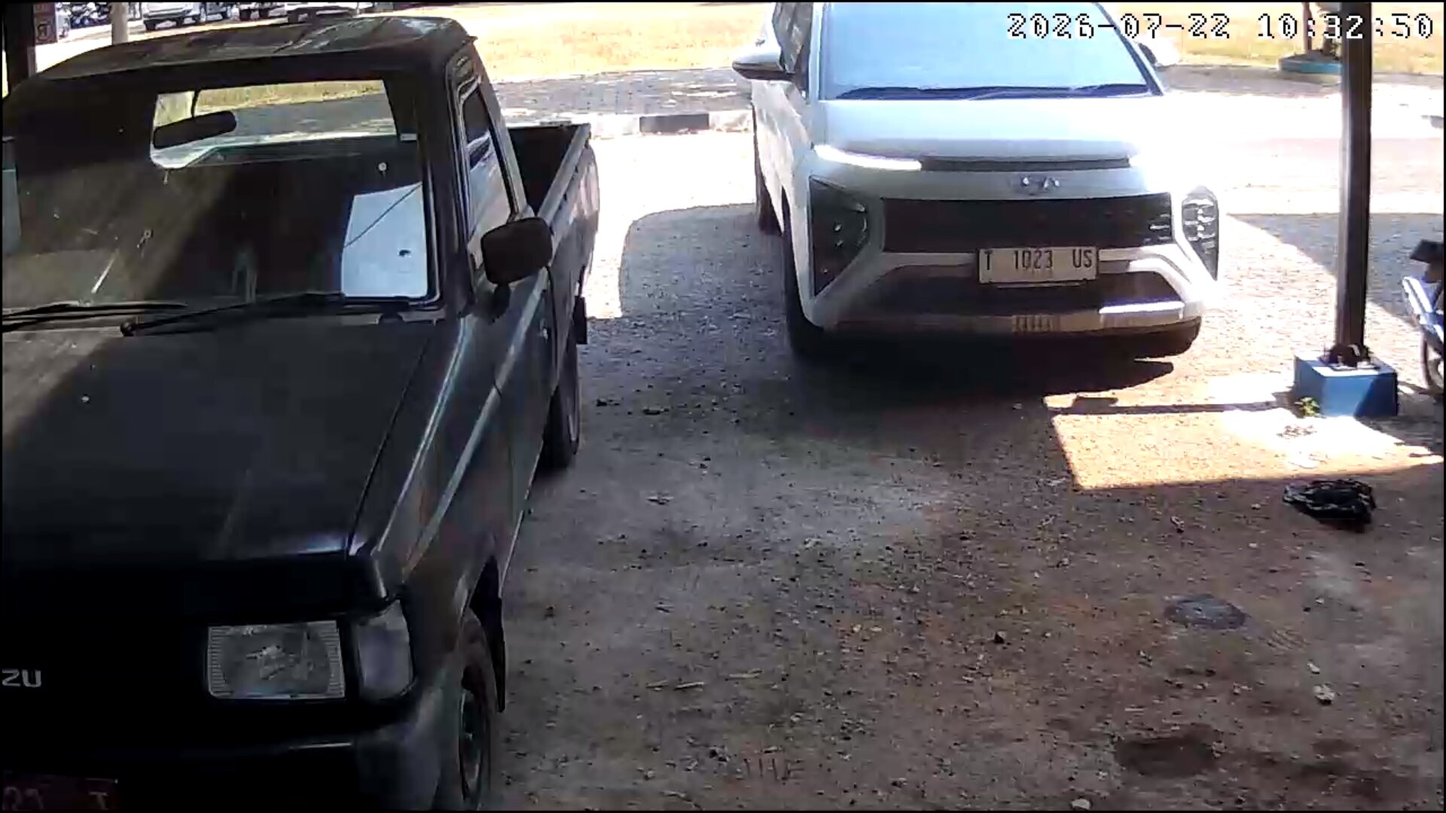plat nomor: (979, 245, 1097, 284)
